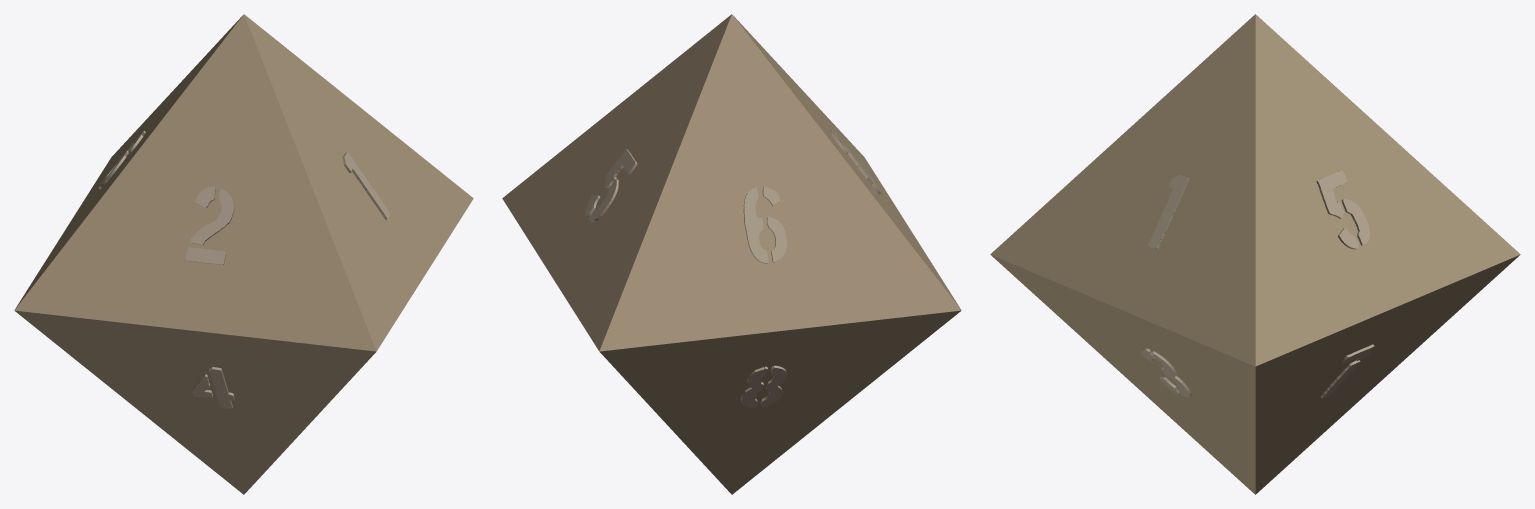
The picture shows the model from 3 angles, left to right: view 1: azimuth 30°, elevation 25°; view 2: azimuth 150°, elevation 25°; view 3: azimuth 270°, elevation 25°; orthographic projection.
Parts seen in each view (by area): view 1: d8, dFace_2_idx_7, dFace_4_idx_6, dFace_1_idx_0; view 2: d8, dFace_6_idx_4, dFace_8_idx_5, dFace_5_idx_3; view 3: d8, dFace_5_idx_3, dFace_1_idx_0, dFace_3_idx_1, dFace_7_idx_2.
Boxes of the visible parts, left/top/right/bottom form: d8: left=14, top=14, right=473, bottom=494; dFace_2_idx_7: left=186, top=186, right=234, bottom=265; dFace_4_idx_6: left=192, top=367, right=234, bottom=409; dFace_1_idx_0: left=342, top=152, right=389, bottom=219; d8: left=502, top=14, right=961, bottom=494; dFace_6_idx_4: left=743, top=186, right=786, bottom=263; dFace_8_idx_5: left=741, top=365, right=786, bottom=407; dFace_5_idx_3: left=585, top=149, right=637, bottom=221; d8: left=990, top=14, right=1520, bottom=494; dFace_5_idx_3: left=1316, top=170, right=1369, bottom=249; dFace_1_idx_0: left=1148, top=174, right=1189, bottom=248; dFace_3_idx_1: left=1141, top=348, right=1191, bottom=397; dFace_7_idx_2: left=1320, top=344, right=1374, bottom=398.
Size of the model in its own units: 2 by 2 by 2.
